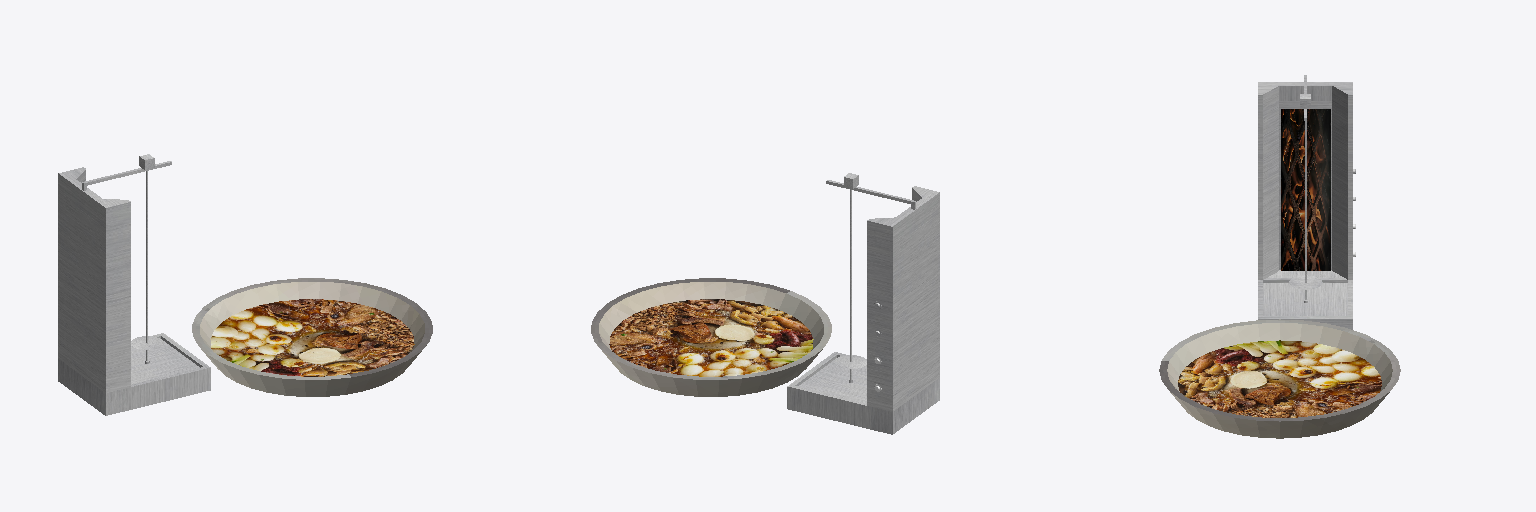
3 renders of one model, left to right at view 1: azimuth 30°, elevation 25°; view 2: azimuth 150°, elevation 25°; view 3: azimuth 270°, elevation 25°, orthographic.
Parts seen in each view (by area): view 1: comal; view 2: comal; view 3: comal.
Part boxes in pixels (left/top/right/bottom): comal: left=58, top=154, right=432, bottom=415; comal: left=591, top=173, right=939, bottom=434; comal: left=1159, top=75, right=1400, bottom=438.
Bounding box in the file's own units: 10.53 × 7.05 × 6.84.
Materials: 7 (3 with a texture image).